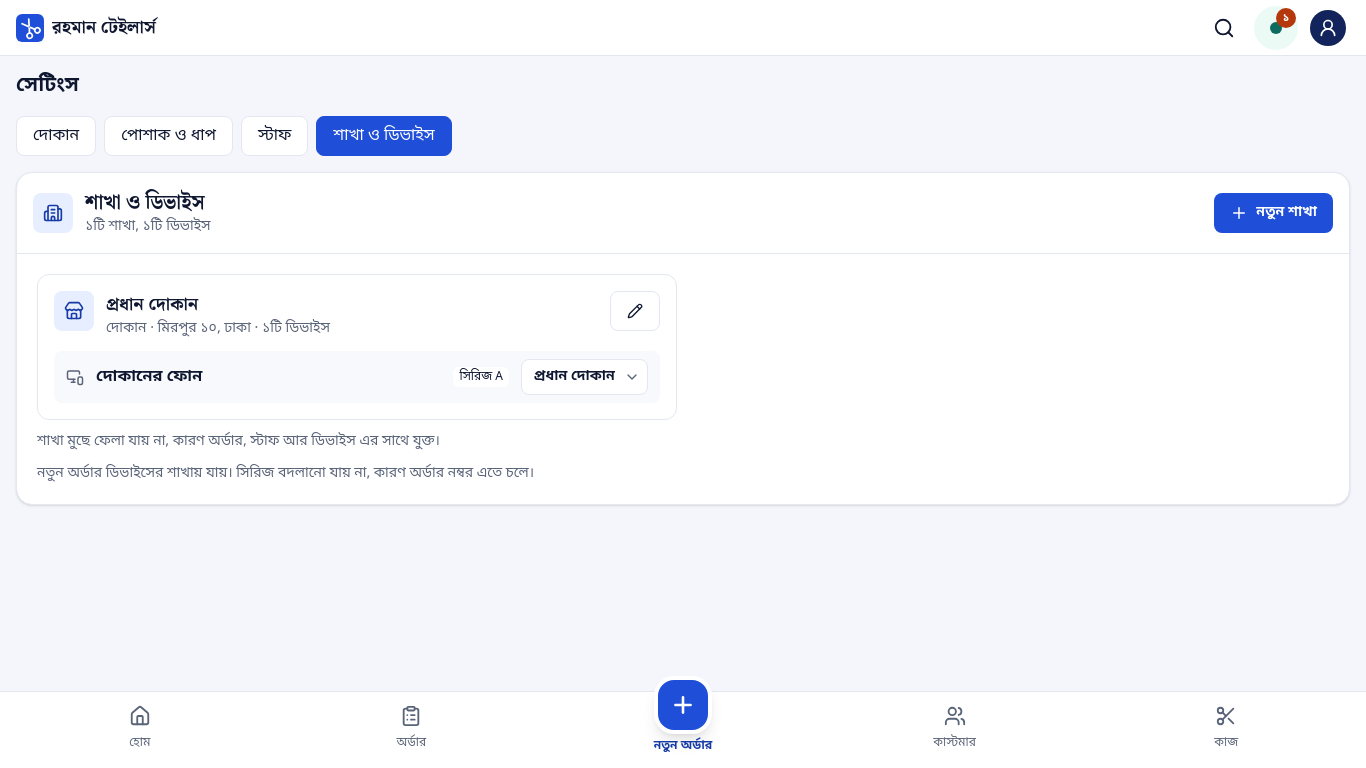
Scenario: Branch settings on a phone › needs a name for a branch
Click the button "নতুন শাখা" at (1274, 213), box x1=1214 y1=193 x2=1333 y2=233
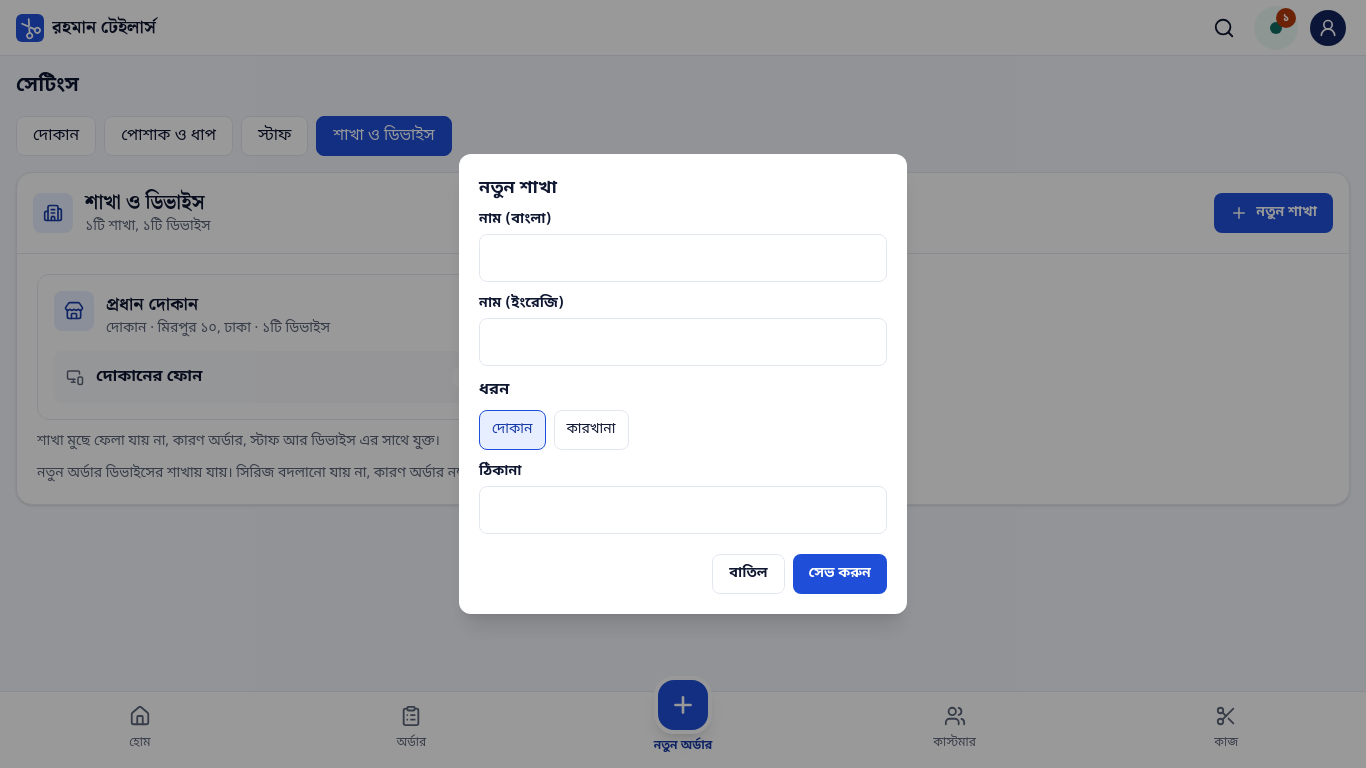
Click the button "সেভ করুন" at (840, 574), box x1=793 y1=554 x2=887 y2=594
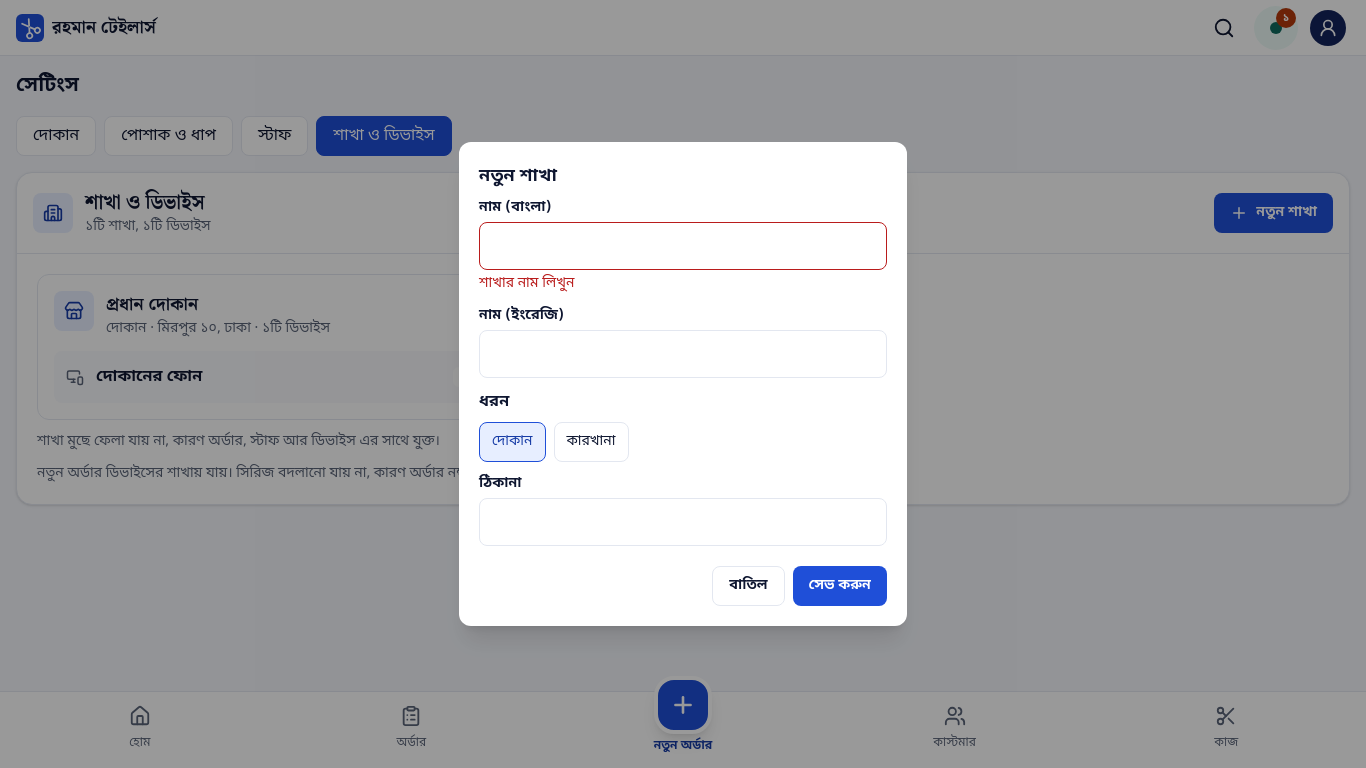
Check: the text "শাখার নাম লিখুন" is shown, box x1=479 y1=274 x2=574 y2=293
